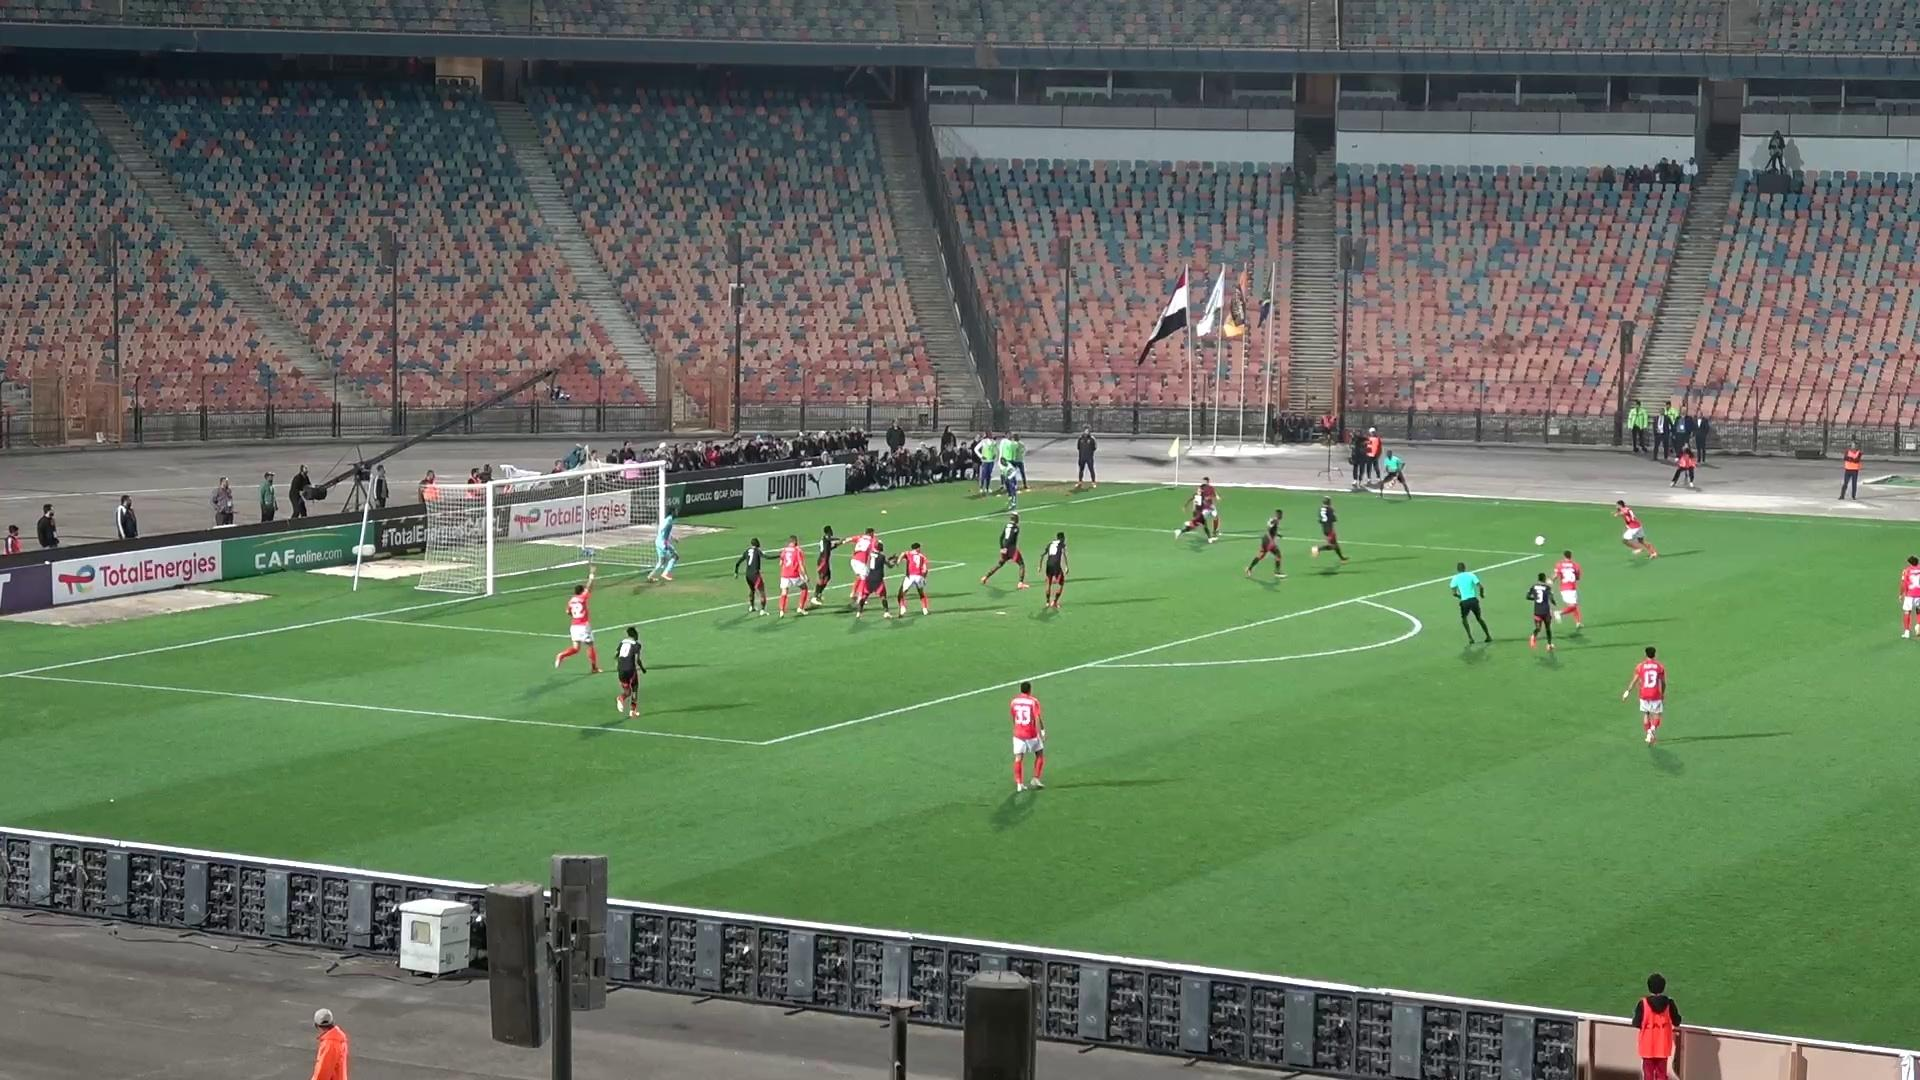Ball: (1532, 534, 1547, 553)
GK2: (646, 505, 678, 580)
Refree: (1448, 563, 1493, 644), (1373, 450, 1412, 496)
Team1: (1622, 646, 1667, 744), (555, 583, 601, 673), (1009, 682, 1044, 793), (851, 529, 887, 615), (1551, 550, 1582, 630), (778, 535, 810, 616), (1613, 500, 1658, 556), (895, 542, 930, 615), (1898, 556, 1919, 640), (1197, 477, 1220, 541), (0, 525, 22, 555)
Team2: (980, 513, 1029, 588), (615, 626, 646, 717), (1245, 510, 1284, 578), (810, 525, 843, 604), (1524, 574, 1557, 651), (735, 538, 767, 613), (1038, 533, 1069, 611), (856, 535, 887, 613), (1309, 496, 1346, 560), (1178, 485, 1218, 542)
